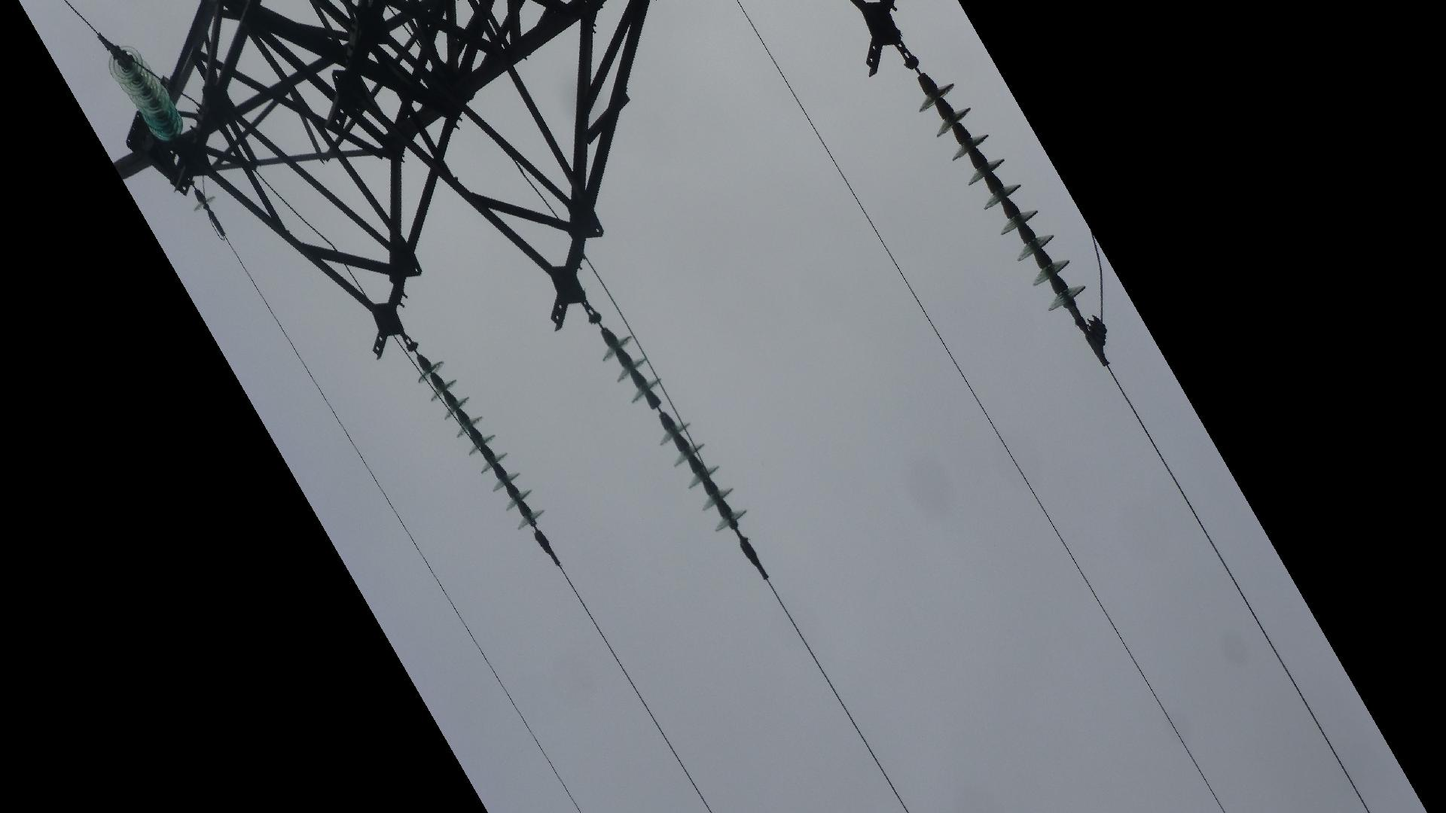insulator: (912, 75, 1094, 317), (595, 329, 755, 541), (409, 352, 554, 534), (102, 37, 191, 149)
insulator_stringdrop: (628, 372, 694, 452)
